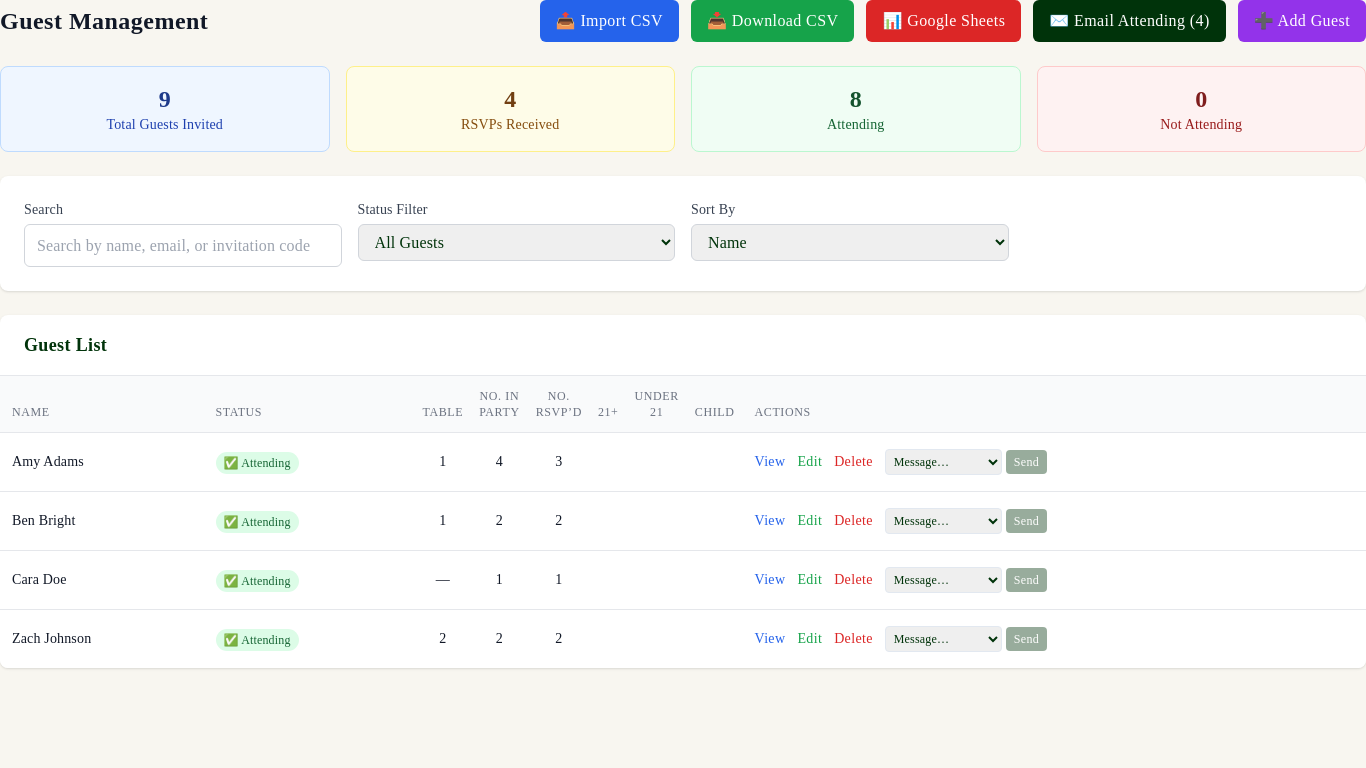
Test: the View popup › says so when no table is assigned
Expected: the text "Amy Adams" is shown, x1=12 y1=454 x2=84 y2=469
Click the button "View" in the row of "Cara Doe": (770, 580) x1=754 y1=570 x2=785 y2=590
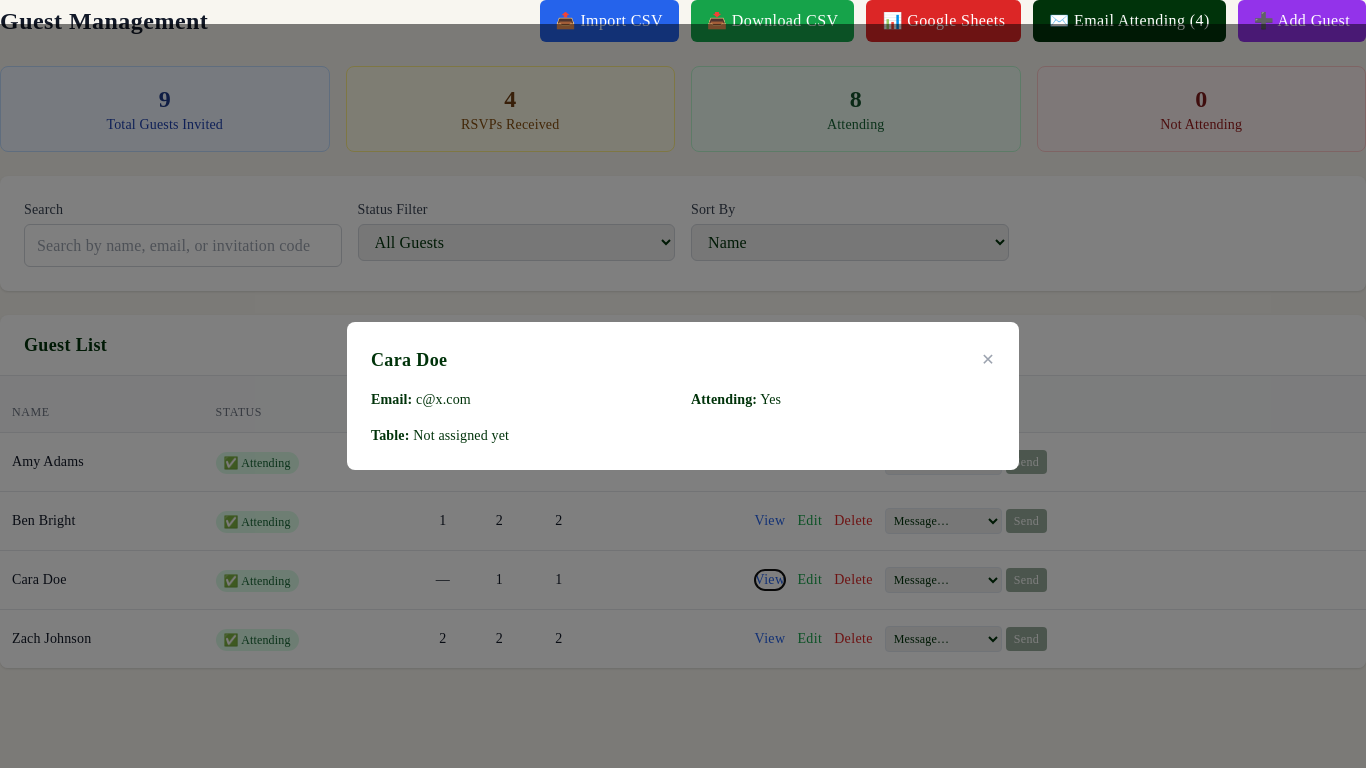
Expected: the heading "Cara Doe" is shown, x1=371 y1=346 x2=447 y2=374
